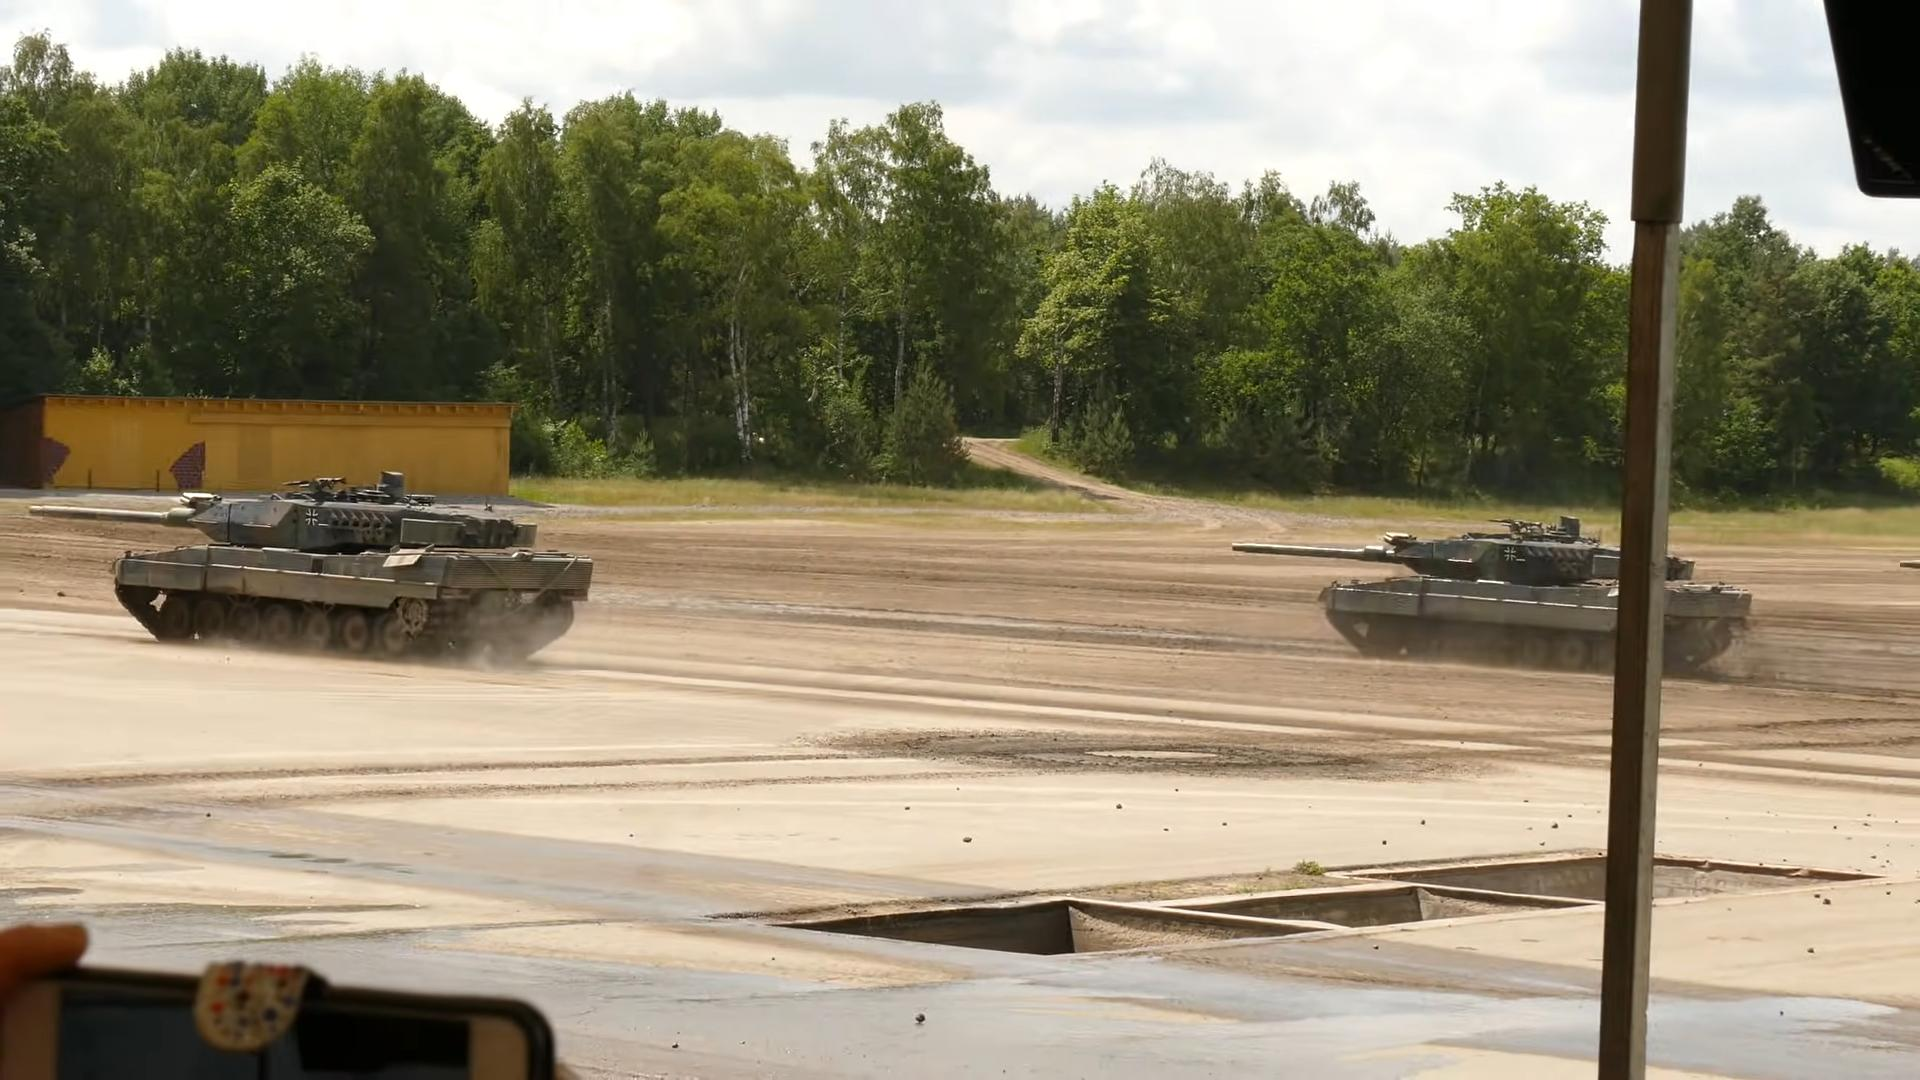tank: (29, 471, 595, 659), (1233, 516, 1753, 675)
